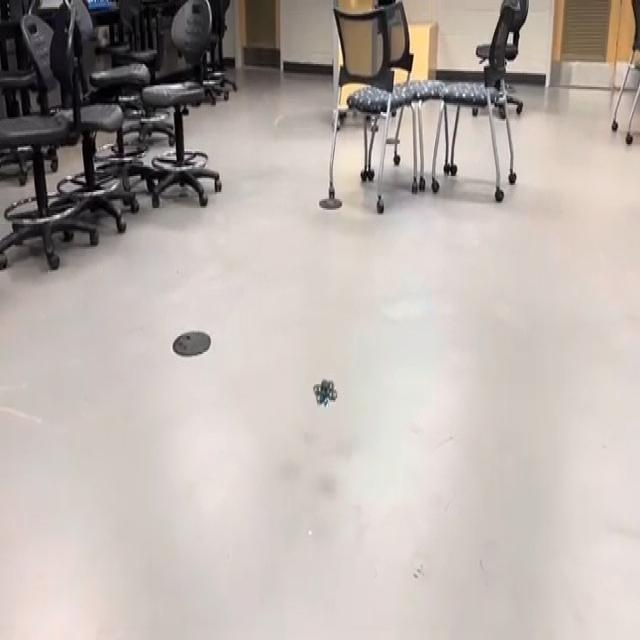drone: (306, 365, 344, 417)
